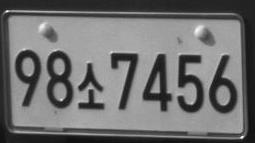4: (141, 53, 172, 111)
5: (176, 53, 204, 113)
6: (208, 54, 238, 114)
7: (110, 52, 139, 110)
8: (45, 49, 74, 109)
9: (14, 48, 42, 108)
소: (78, 62, 105, 109)
